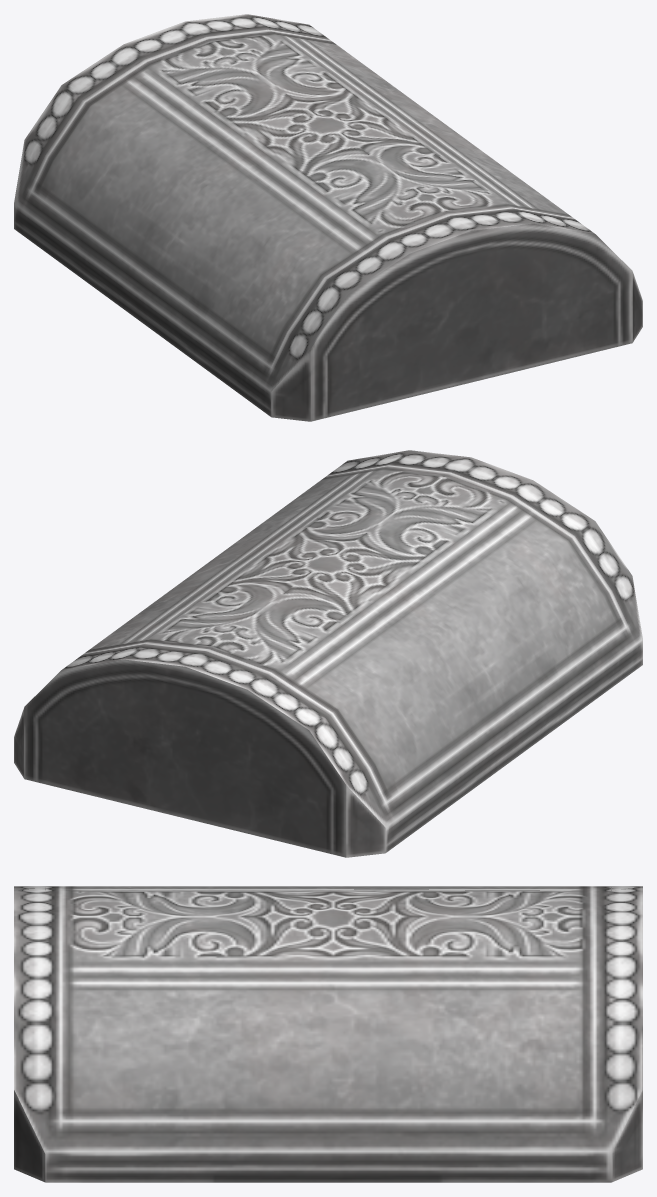
The model's file is SM_Jewelry_Box_Cover_A_Silver.fbx.
The picture shows the model from 3 angles, top to bottom: view 1: azimuth 30°, elevation 25°; view 2: azimuth 150°, elevation 25°; view 3: azimuth 270°, elevation 25°; orthographic projection. The views are drawn at different scales.
Visible parts, largest first — view 1: SM_Jewelry_Box_Cover_A_Silver_LOD0; view 2: SM_Jewelry_Box_Cover_A_Silver_LOD0; view 3: SM_Jewelry_Box_Cover_A_Silver_LOD0.
Boxes of the visible parts, bbox=[...] form: SM_Jewelry_Box_Cover_A_Silver_LOD0: bbox=[14, 14, 642, 421]; SM_Jewelry_Box_Cover_A_Silver_LOD0: bbox=[14, 450, 642, 857]; SM_Jewelry_Box_Cover_A_Silver_LOD0: bbox=[14, 886, 642, 1182].
Bounding box in the file's own units: 14.86 × 19.81 × 5.8.
1 material, 1 textured.
